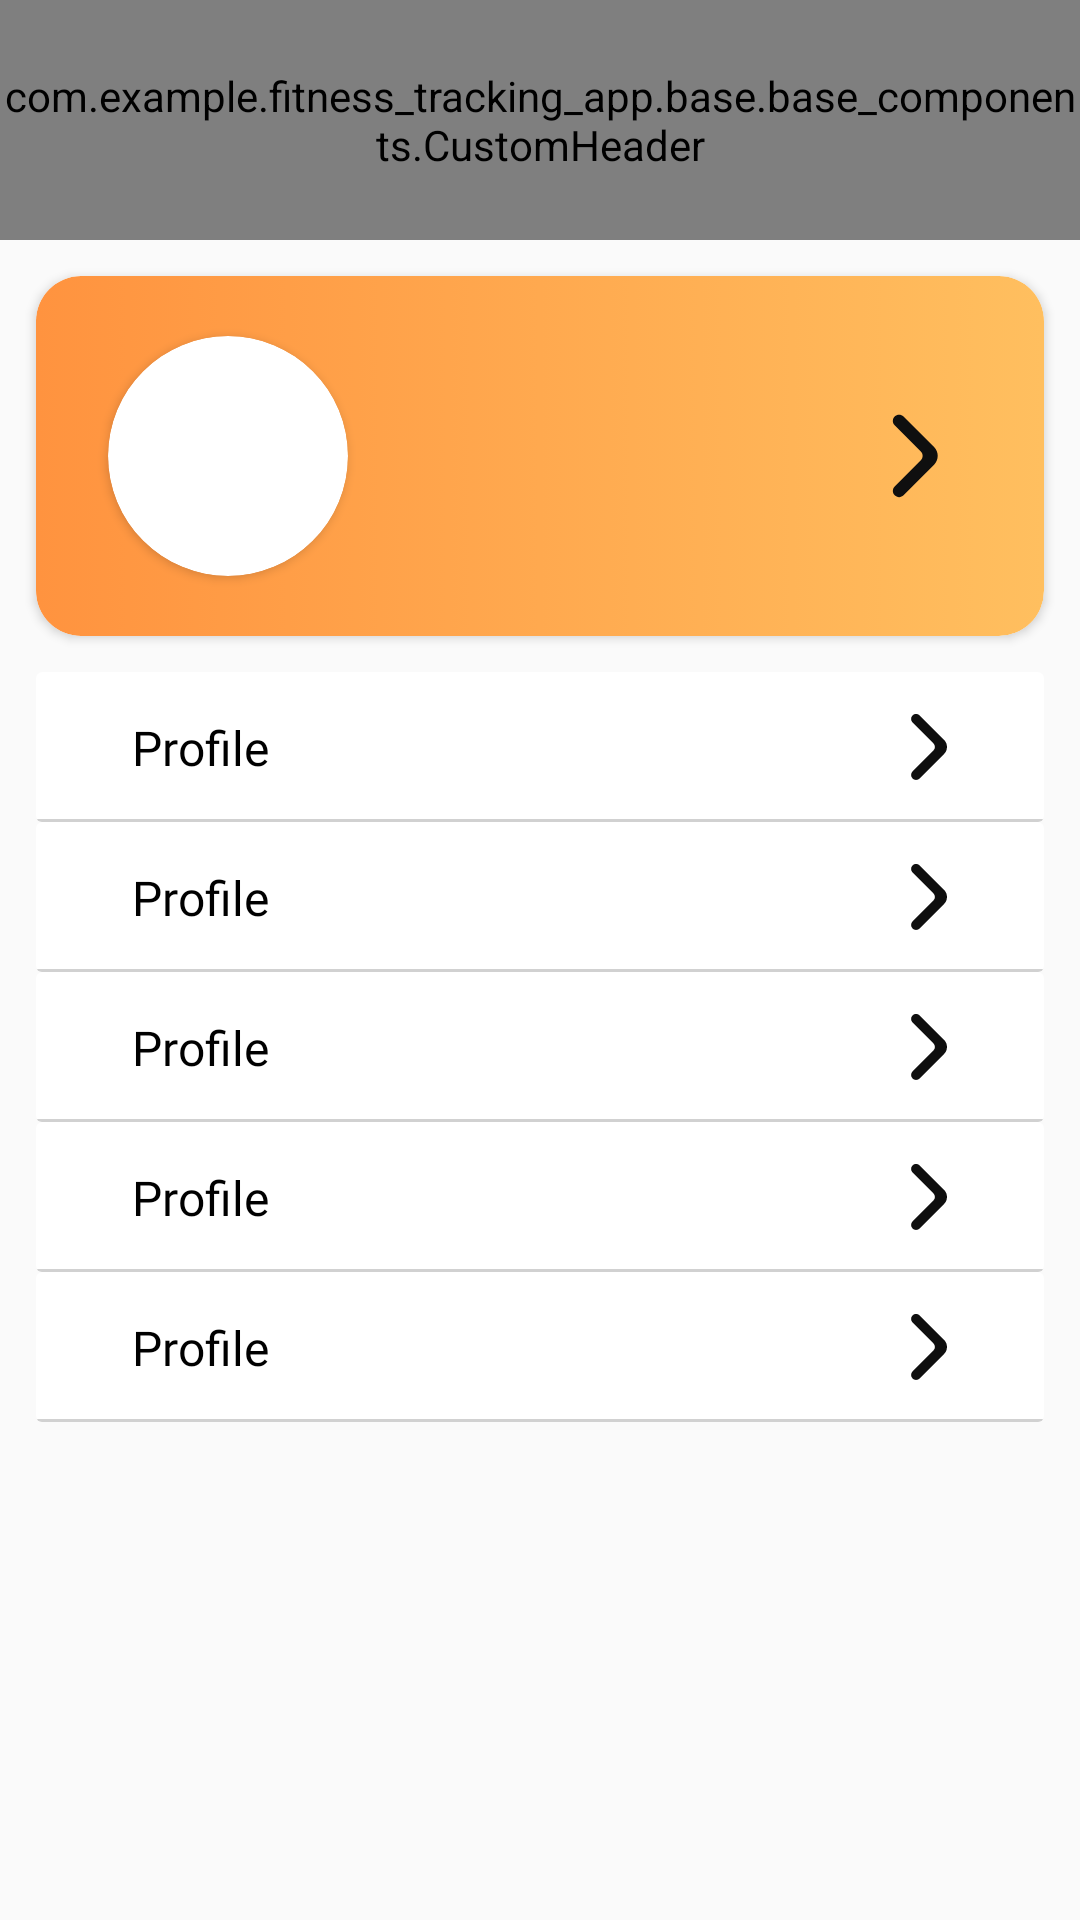

Screen size 1080px x 1920px. Icon name, then its center in pixels as (x,y):
arrow: (915,456), (929,747), (929,897), (929,1047), (929,1197), (929,1347)
